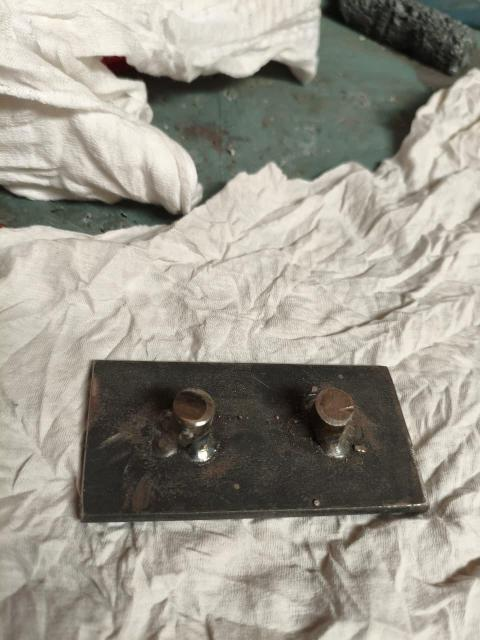Metal: (77, 358, 429, 524)
